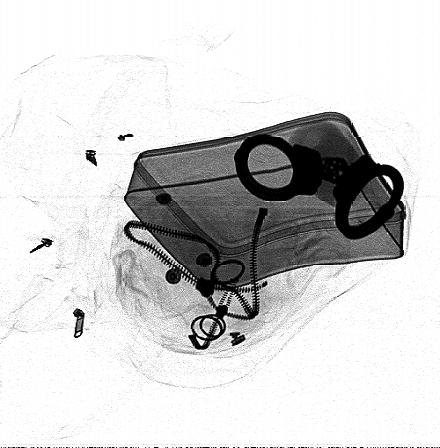HandCuffs: (233, 133, 405, 240)
